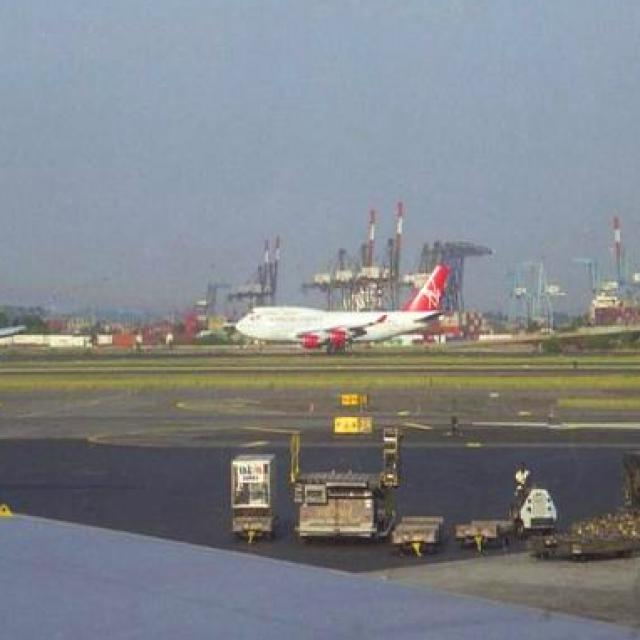ship: (481, 214, 640, 342)
